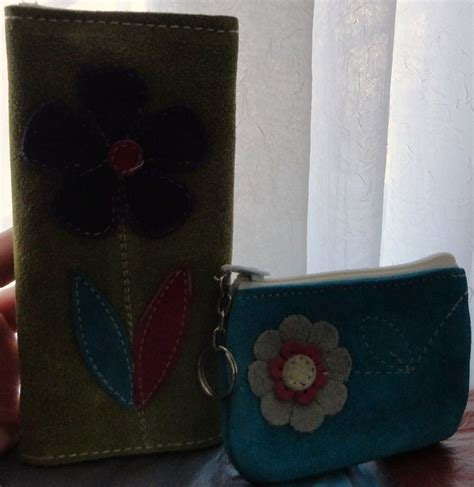gamuza: (4, 5, 470, 474)
